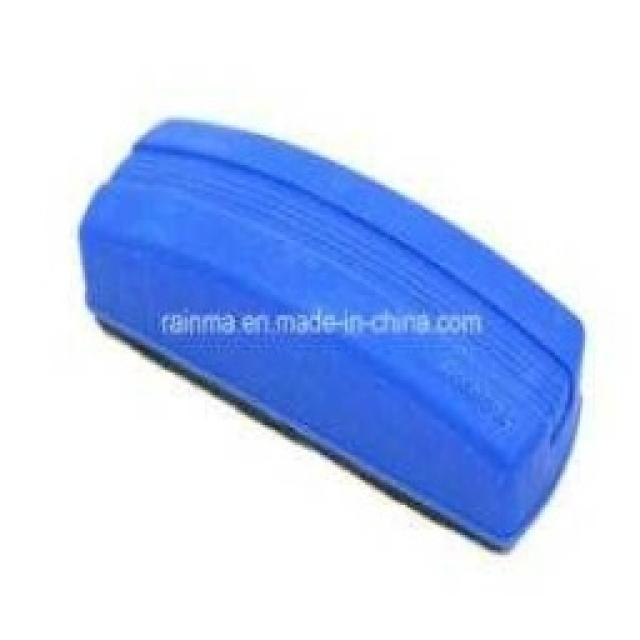Silgi: (79, 113, 585, 555)
